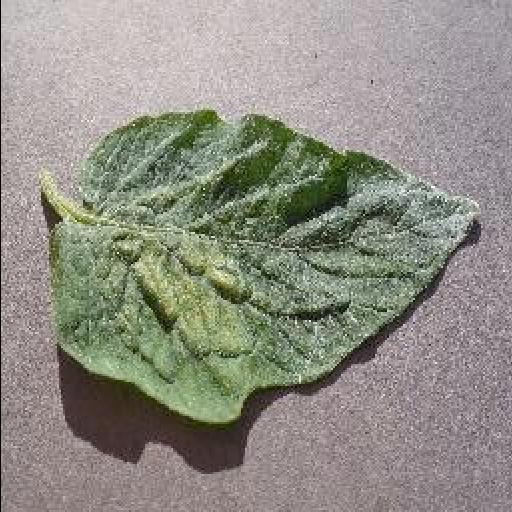disease_tomato: (49, 110, 483, 422)
